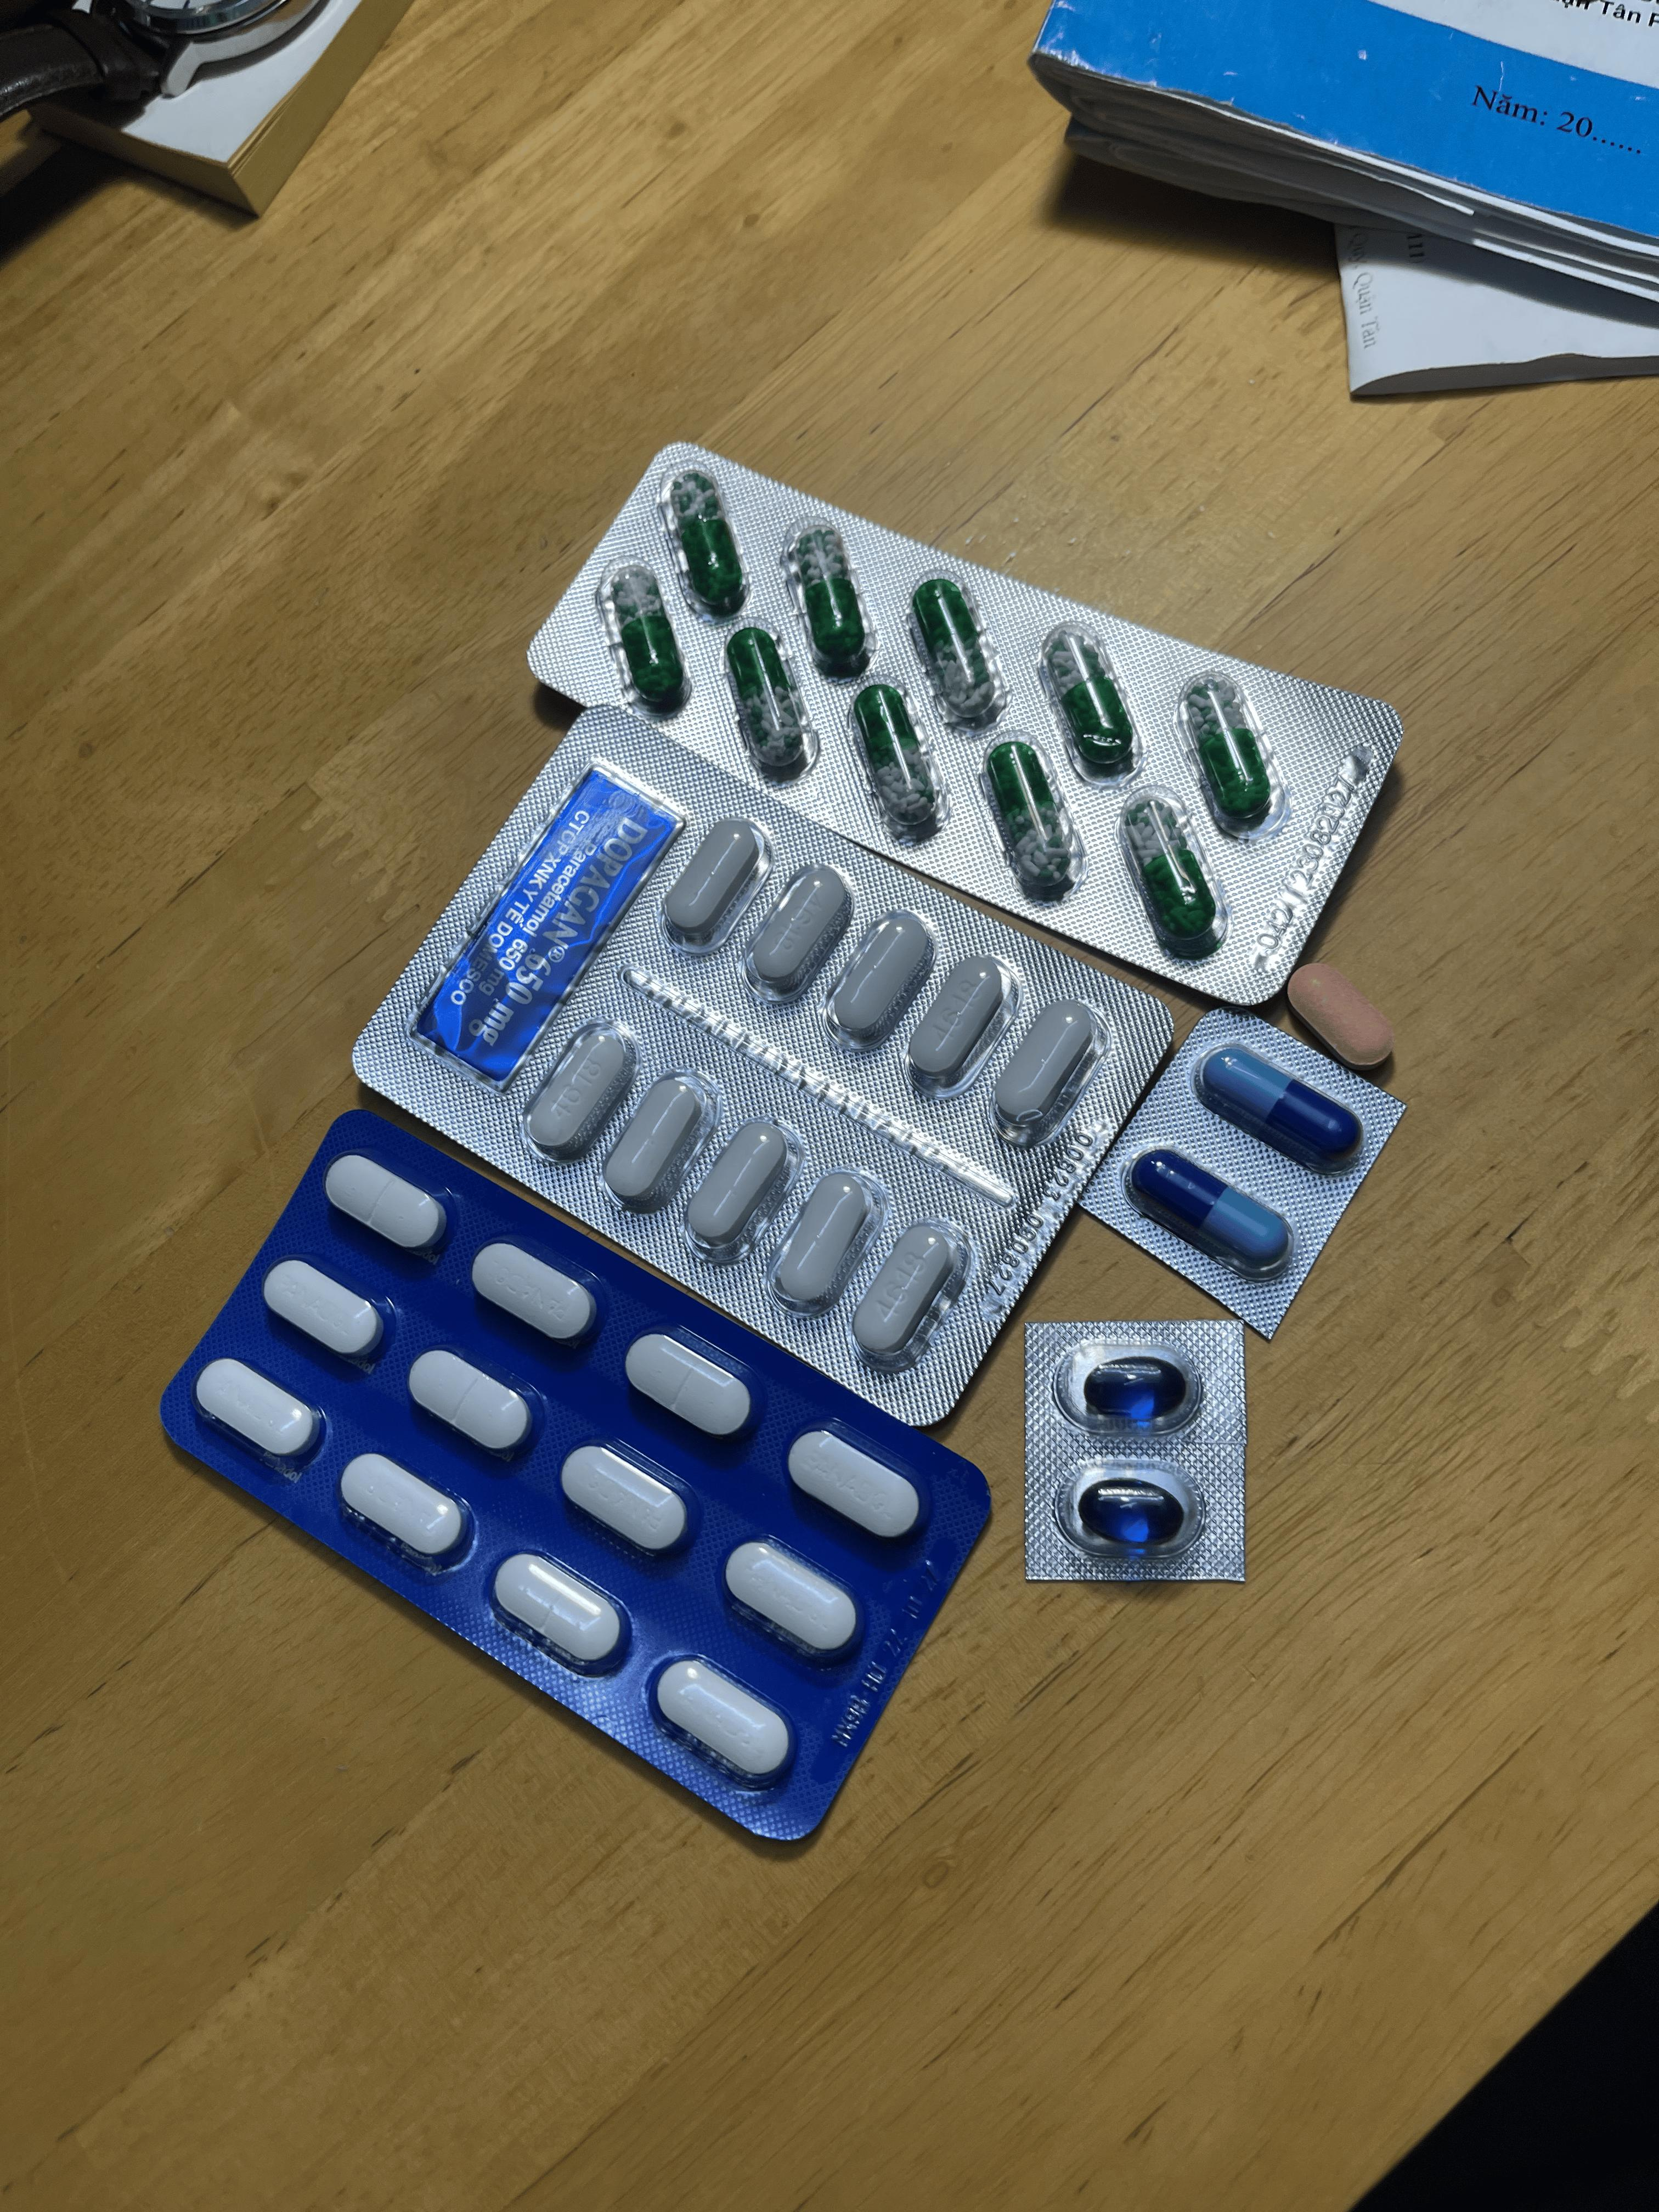Lincomyxin_500mg: (1075, 1475, 1183, 1547), (1080, 1355, 1185, 1423)
Loratadine_10mg: (1286, 963, 1396, 1069)
Paracetamol_350mg: (650, 1656, 793, 1785), (721, 1538, 861, 1662), (786, 1425, 924, 1543), (490, 1552, 626, 1670), (559, 1440, 692, 1557), (624, 1329, 758, 1440), (338, 1451, 467, 1562), (193, 1355, 321, 1463), (408, 1348, 535, 1456), (471, 1238, 599, 1345), (263, 1258, 385, 1364), (324, 1151, 448, 1254)
Paracetamol_500mg: (847, 1216, 972, 1366), (680, 1113, 800, 1258), (521, 1014, 640, 1158), (904, 951, 1021, 1096), (992, 996, 1105, 1143), (770, 1163, 887, 1301), (599, 1075, 720, 1207), (739, 860, 852, 1000), (824, 909, 936, 1049), (657, 815, 767, 949)
Paracetamol_650mg: (1119, 787, 1225, 958), (985, 738, 1080, 895), (850, 685, 946, 834), (1040, 625, 1134, 777), (599, 563, 692, 716), (910, 577, 1004, 726), (786, 524, 877, 679), (1185, 674, 1276, 826), (664, 469, 749, 620), (728, 627, 812, 777)
pill: (1131, 1146, 1290, 1266), (1202, 1047, 1359, 1162)
